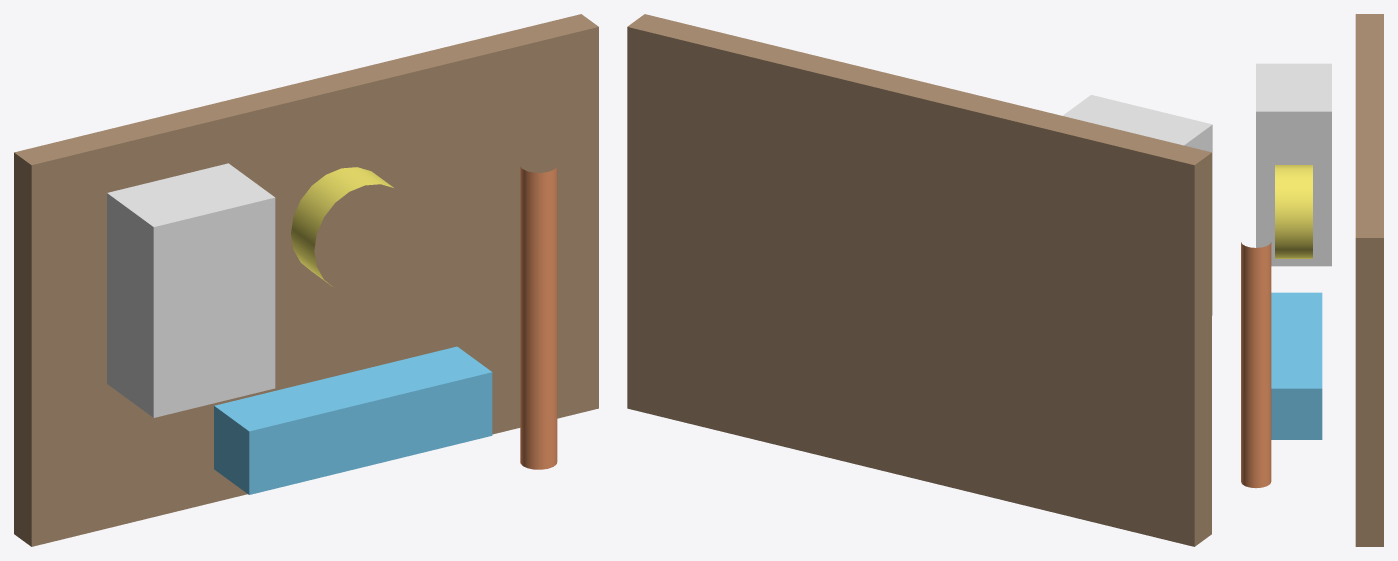
File: electrical_wiring_workshop.glb
The picture shows the model from 3 angles, left to right: view 1: azimuth 30°, elevation 25°; view 2: azimuth 150°, elevation 25°; view 3: azimuth 270°, elevation 25°; orthographic projection. The views are drawn at different scales.
Visible parts, largest first — view 1: WiringWoodenBoard, MCBCircuitBreakerUnit, FluorescentChokeBallast, MeggerEarthTesterSpike, Staircase2WaySwitch; view 2: WiringWoodenBoard, MCBCircuitBreakerUnit; view 3: WiringWoodenBoard, MCBCircuitBreakerUnit, FluorescentChokeBallast, MeggerEarthTesterSpike, Staircase2WaySwitch.
Part boxes in pixels (x1=…): WiringWoodenBoard: x1=14, y1=14, x2=598, y2=546; MCBCircuitBreakerUnit: x1=107, y1=163, x2=275, y2=417; FluorescentChokeBallast: x1=214, y1=346, x2=492, y2=494; MeggerEarthTesterSpike: x1=520, y1=165, x2=557, y2=469; Staircase2WaySwitch: x1=291, y1=167, x2=393, y2=286; WiringWoodenBoard: x1=627, y1=14, x2=1211, y2=546; MCBCircuitBreakerUnit: x1=1062, y1=95, x2=1212, y2=315; WiringWoodenBoard: x1=1355, y1=14, x2=1383, y2=546; MCBCircuitBreakerUnit: x1=1256, y1=63, x2=1331, y2=266; FluorescentChokeBallast: x1=1271, y1=292, x2=1322, y2=439; MeggerEarthTesterSpike: x1=1241, y1=242, x2=1271, y2=488; Staircase2WaySwitch: x1=1275, y1=165, x2=1312, y2=258.
Size of the model in its own units: 2.8 by 1.8 by 0.755.
